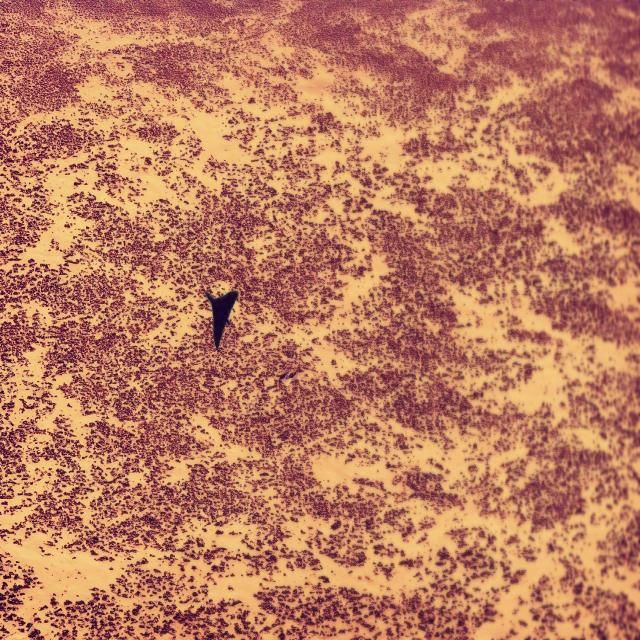airplane: (203, 288, 238, 350)
